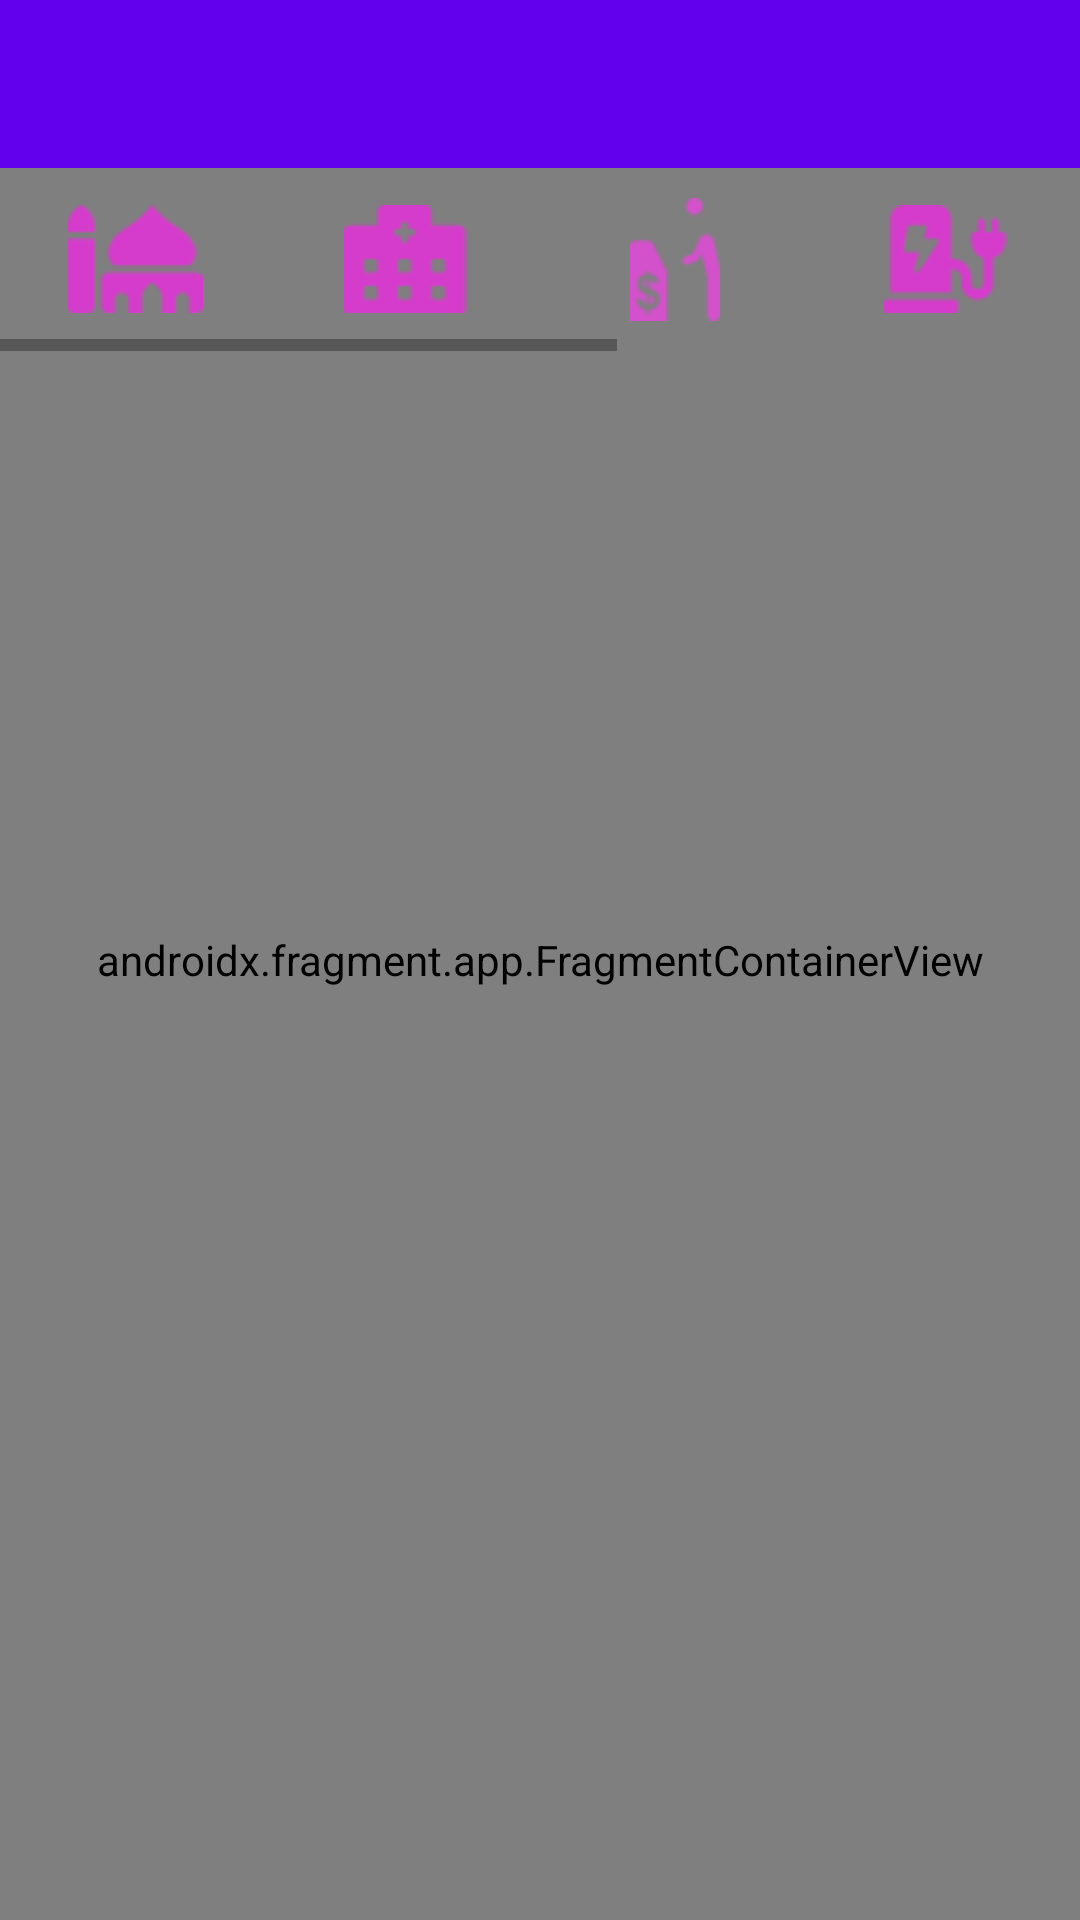

Point at icon controls on the screen. Image size 1080x1920, points as (x=x, y=y).
atm: (x=675, y=259)
hospital: (x=405, y=259)
mosque: (x=135, y=259)
station: (x=945, y=259)
